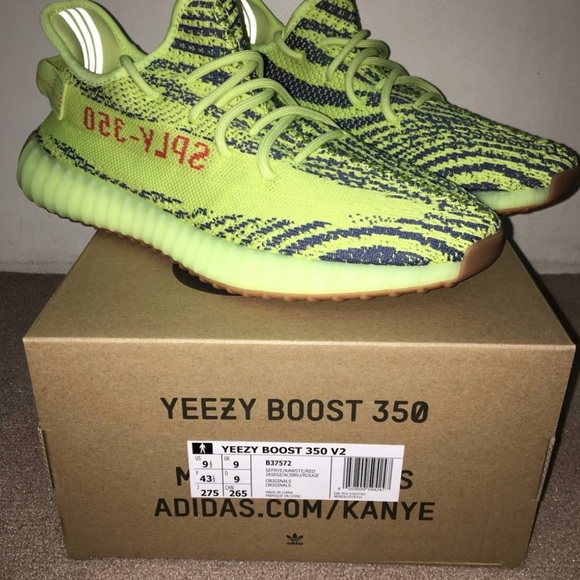Yeezy Semi-Frozen: (1, 1, 526, 318), (232, 1, 580, 220)
